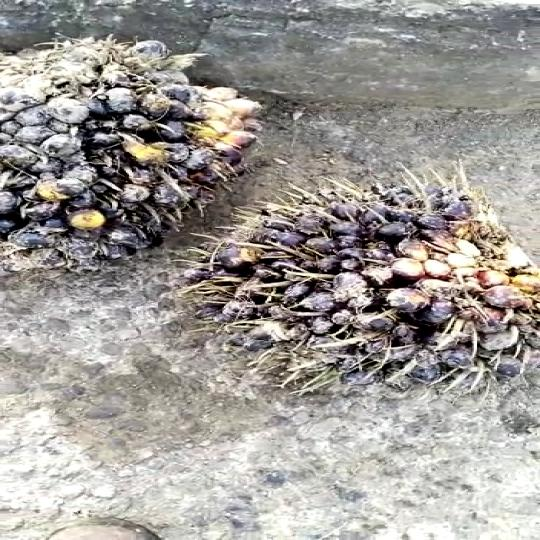mentah: (178, 170, 540, 412), (0, 19, 270, 297)
